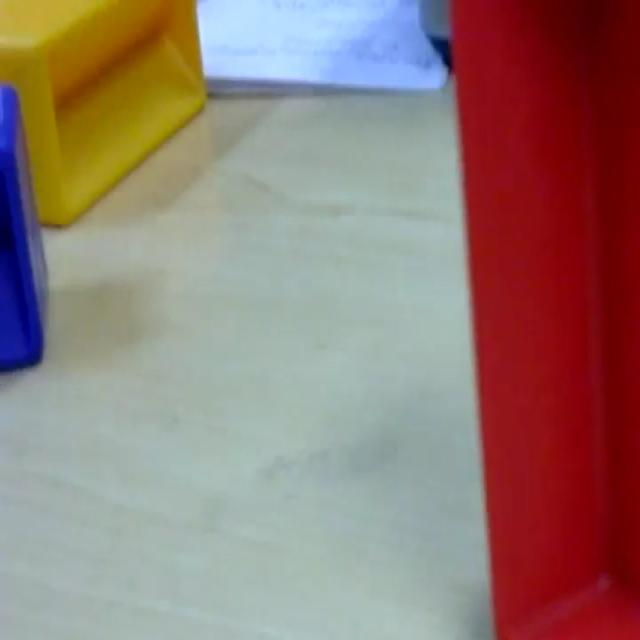blue_block: (0, 82, 50, 374)
red_block: (448, 0, 638, 636)
yellow_block: (1, 0, 207, 227)
